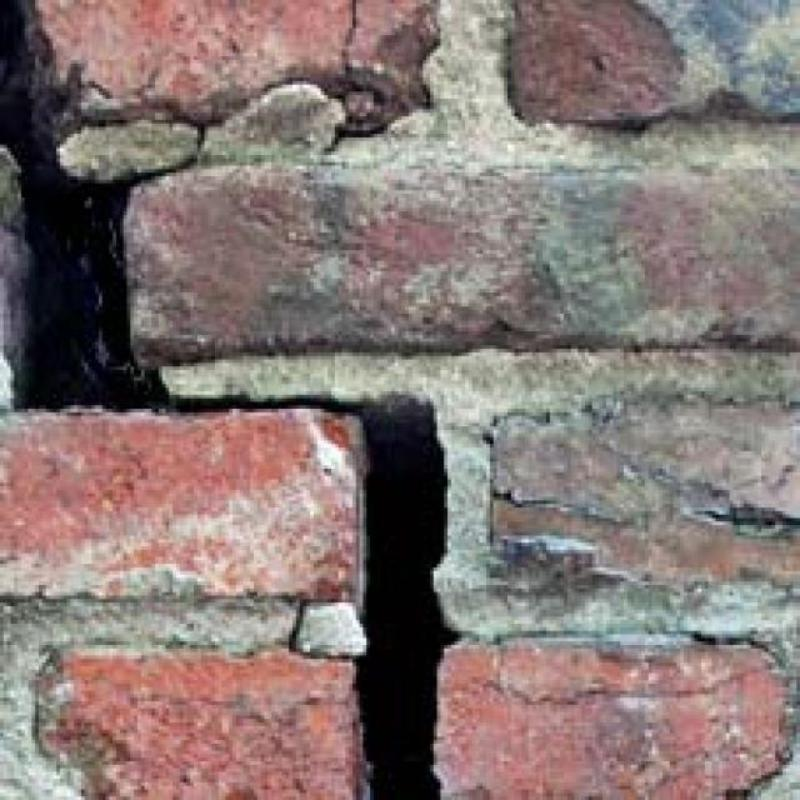pothole: (0, 0, 453, 799)
